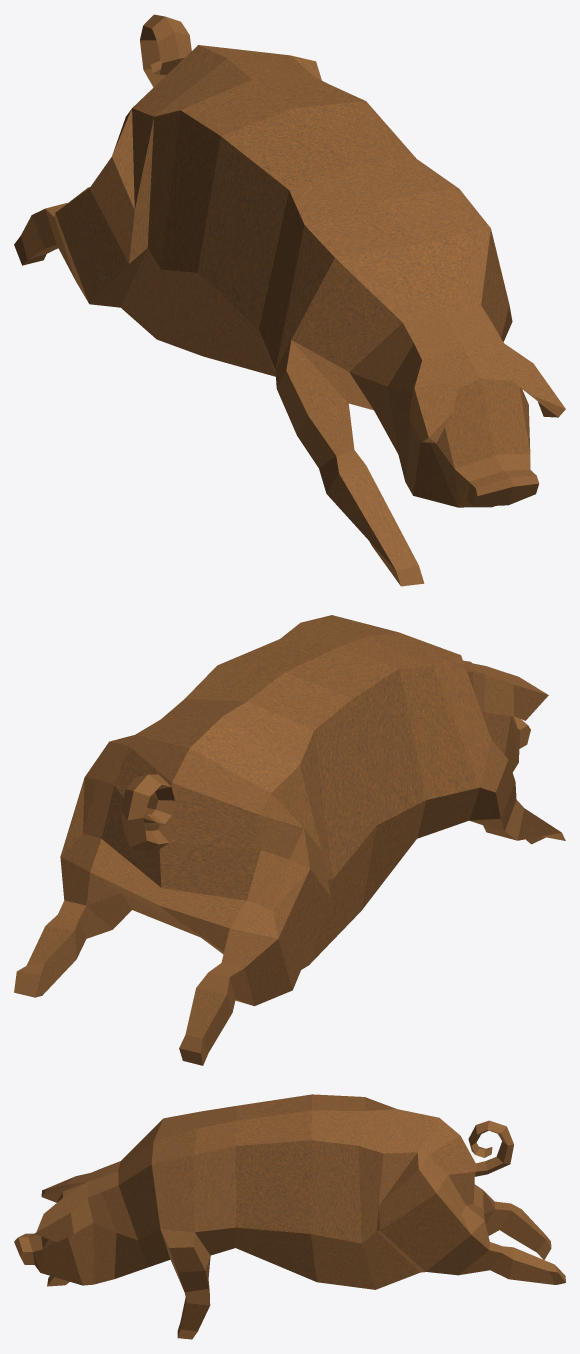
File: Pig_000017.obj
The picture shows the model from 3 angles, top to bottom: view 1: azimuth 30°, elevation 25°; view 2: azimuth 150°, elevation 25°; view 3: azimuth 270°, elevation 25°; orthographic projection. The views are drawn at different scales.
Parts seen in each view (by area): view 1: Pig_Cylinder; view 2: Pig_Cylinder; view 3: Pig_Cylinder.
Boxes of the visible parts, x1,y1,x2,y2 form: Pig_Cylinder: (14,14,565,586); Pig_Cylinder: (14,615,565,1065); Pig_Cylinder: (14,1094,565,1339).
Bounding box in the file's own units: 3.41 × 4.33 × 10.45.
Materials: 1 (1 with a texture image).
